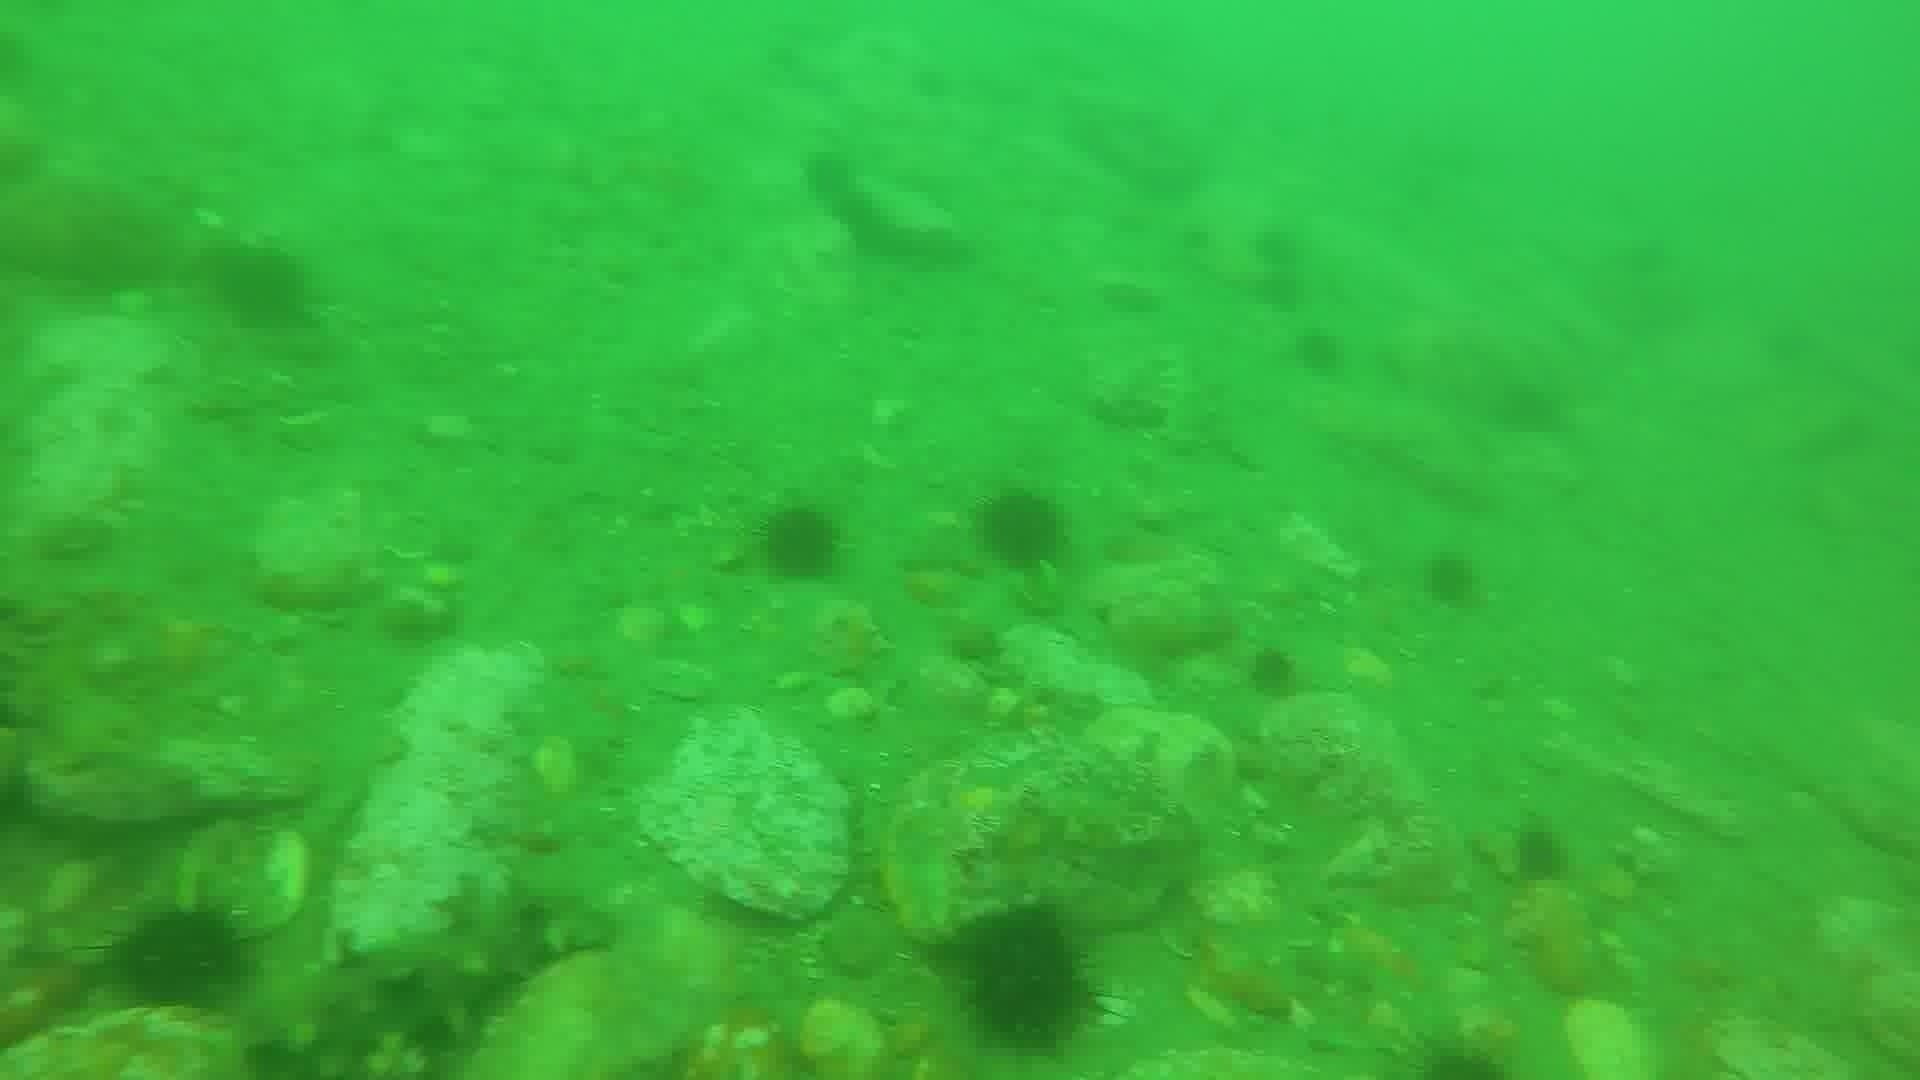echinus: (953, 903, 1102, 1055), (111, 901, 251, 1015), (200, 237, 316, 334), (971, 485, 1069, 576), (754, 501, 847, 585), (1393, 1025, 1520, 1079), (1503, 820, 1573, 890), (796, 145, 862, 212), (1418, 547, 1486, 612), (1240, 644, 1307, 705), (1290, 324, 1349, 381)
holothurian: (236, 876, 612, 1069)
